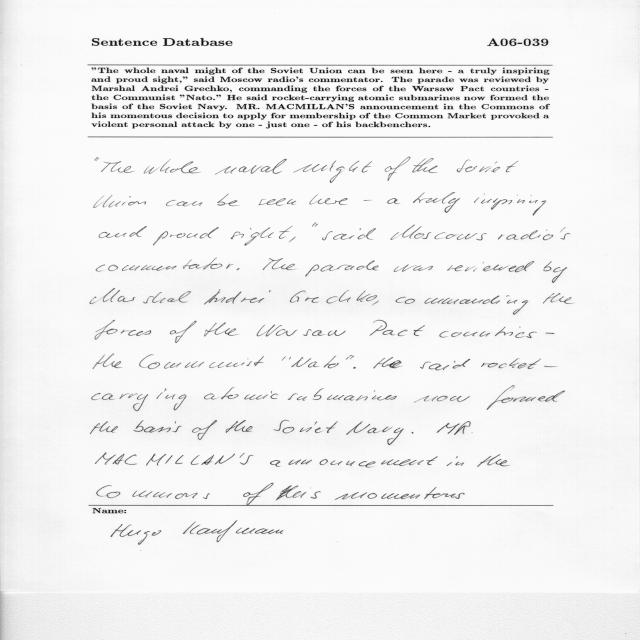word: (97, 483, 465, 505), (396, 295, 528, 315), (92, 389, 187, 412), (96, 453, 253, 466), (139, 354, 264, 369), (487, 386, 565, 410), (270, 457, 438, 468), (293, 160, 372, 183), (96, 258, 233, 271), (90, 288, 191, 304), (474, 194, 546, 216), (391, 225, 487, 240), (288, 388, 397, 401), (346, 421, 404, 445), (231, 226, 293, 246), (153, 228, 219, 246), (306, 261, 379, 277), (440, 326, 537, 338), (215, 159, 287, 175), (290, 291, 377, 304), (95, 320, 151, 340), (257, 325, 346, 337), (204, 290, 271, 305), (413, 192, 460, 213), (447, 261, 535, 272), (204, 387, 278, 400), (498, 228, 570, 241), (369, 320, 425, 336), (144, 159, 201, 174), (274, 421, 338, 434), (481, 358, 556, 369), (457, 160, 519, 173), (292, 355, 353, 368), (94, 195, 146, 208), (322, 229, 376, 241), (385, 157, 411, 181), (133, 421, 182, 433), (99, 226, 147, 238), (170, 321, 196, 343), (420, 359, 470, 370), (543, 261, 567, 283), (192, 420, 217, 440), (204, 323, 239, 337), (437, 421, 471, 435), (93, 354, 122, 369), (477, 454, 509, 467), (262, 258, 296, 270), (101, 161, 134, 173), (414, 396, 470, 403), (412, 158, 438, 173), (310, 195, 348, 205), (91, 421, 118, 434), (226, 420, 253, 433), (543, 293, 574, 304), (373, 357, 403, 368), (394, 264, 433, 272), (97, 485, 120, 498), (259, 198, 296, 206), (218, 194, 239, 207), (166, 200, 203, 206), (447, 456, 464, 466), (133, 491, 153, 498), (153, 492, 172, 498), (387, 198, 400, 204), (282, 356, 291, 361), (289, 237, 296, 243), (372, 301, 379, 305), (312, 223, 318, 227), (350, 356, 355, 360), (95, 157, 99, 161), (363, 200, 372, 201), (546, 333, 555, 334), (237, 268, 240, 270), (353, 367, 356, 369), (412, 432, 414, 434)
